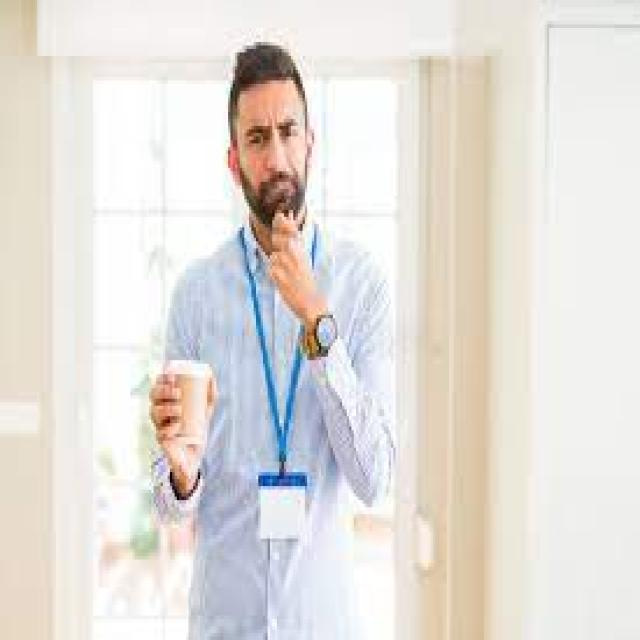id_card: (236, 232, 324, 551)
